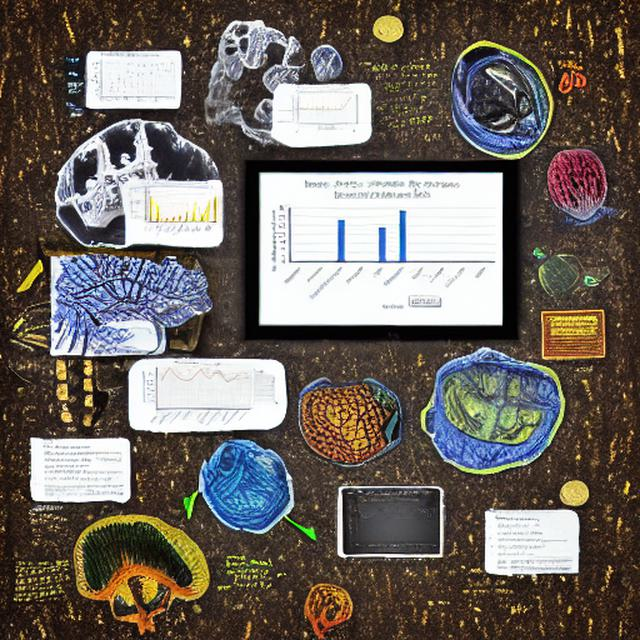Graph: (264, 176, 501, 315), (141, 360, 254, 428), (346, 497, 440, 553), (129, 181, 220, 235), (90, 52, 179, 105), (291, 90, 356, 130)
